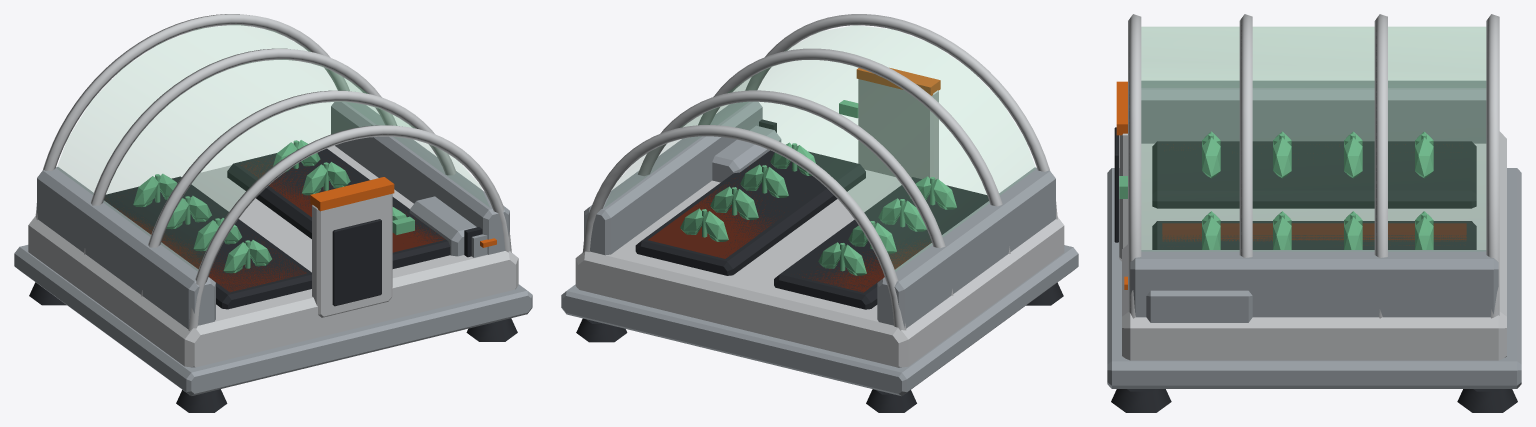
Rendered from greenhouse.glb.
3 renders of one model, left to right at view 1: azimuth 30°, elevation 25°; view 2: azimuth 150°, elevation 25°; view 3: azimuth 270°, elevation 25°, orthographic. The views are drawn at different scales.
Visible parts, largest first — view 1: static_body_mesh.001, window_shell, crop_ready_mesh, crop_ready_mesh.001, service_panel_mesh.001; view 2: static_body_mesh.001, window_shell, crop_ready_mesh.001, crop_ready_mesh, crop_growing_mesh.001; view 3: static_body_mesh.001, window_shell, crop_ready_mesh, crop_ready_mesh.001.
Boxes of the visible parts, <box> form: static_body_mesh.001: <box>14,14,532,412</box>; window_shell: <box>57,25,488,270</box>; crop_ready_mesh: <box>133,173,272,273</box>; crop_ready_mesh.001: <box>273,140,406,220</box>; service_panel_mesh.001: <box>464,227,496,257</box>; static_body_mesh.001: <box>561,14,1078,412</box>; window_shell: <box>605,26,1035,270</box>; crop_ready_mesh.001: <box>680,142,815,241</box>; crop_ready_mesh: <box>818,176,956,275</box>; crop_growing_mesh.001: <box>686,160,808,241</box>; static_body_mesh.001: <box>1107,14,1521,412</box>; window_shell: <box>1141,27,1485,250</box>; crop_ready_mesh: <box>1202,131,1433,178</box>; crop_ready_mesh.001: <box>1202,211,1433,249</box>.
Size of the model in its own units: 2.79 by 1.85 by 2.45.
